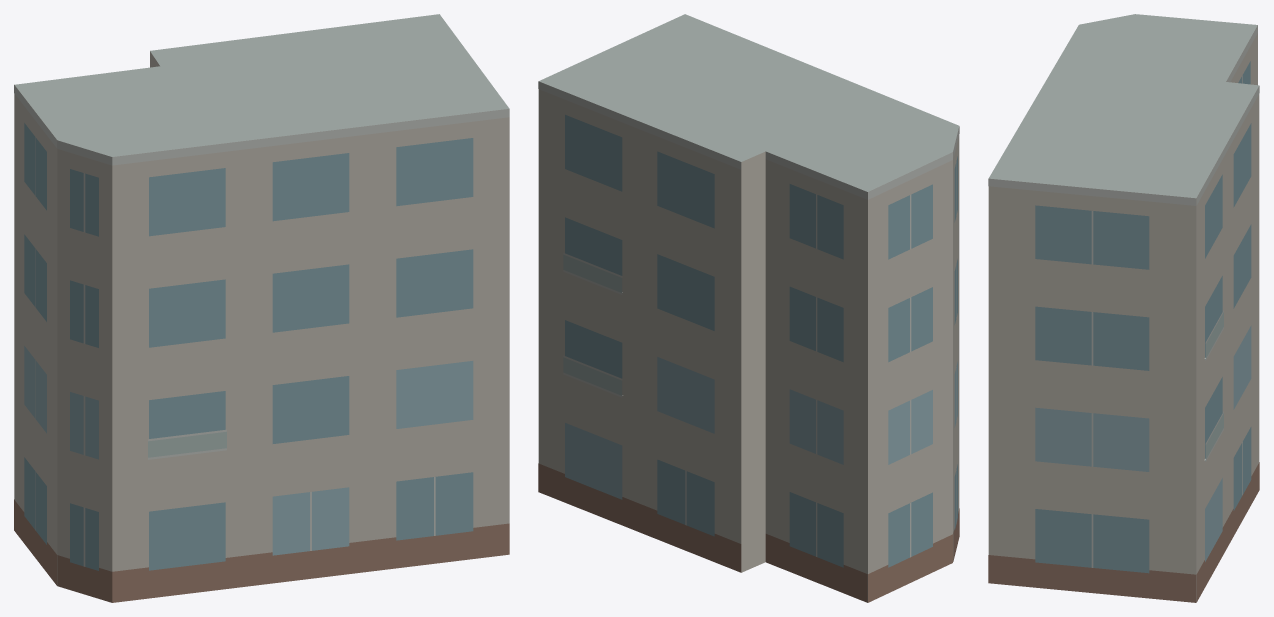
The model's file is survey-upis-32460232.glb.
3 renders of one model, left to right at view 1: azimuth 30°, elevation 25°; view 2: azimuth 150°, elevation 25°; view 3: azimuth 270°, elevation 25°, orthographic. The views are drawn at different scales.
Visible parts, largest first — view 1: survey-upis-32460232.tmp; view 2: survey-upis-32460232.tmp; view 3: survey-upis-32460232.tmp.
Part boxes in pixels (bbox=[...]): survey-upis-32460232.tmp: bbox=[14, 14, 509, 602]; survey-upis-32460232.tmp: bbox=[538, 14, 959, 602]; survey-upis-32460232.tmp: bbox=[988, 14, 1259, 602].
Size of the model in its own units: 12.51 by 12.8 by 7.78.
